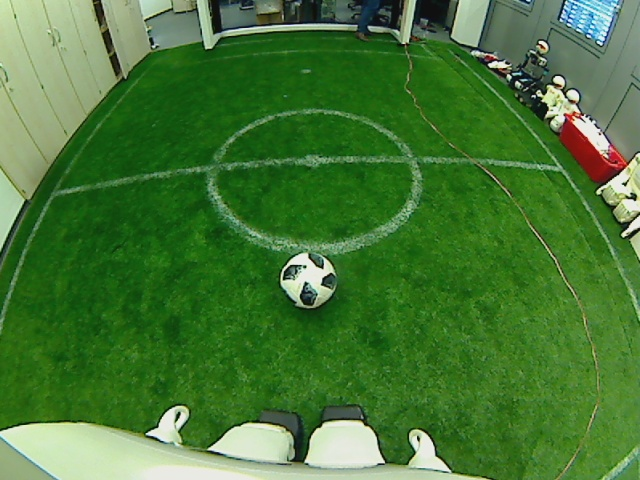ball: (276, 249, 339, 308)
